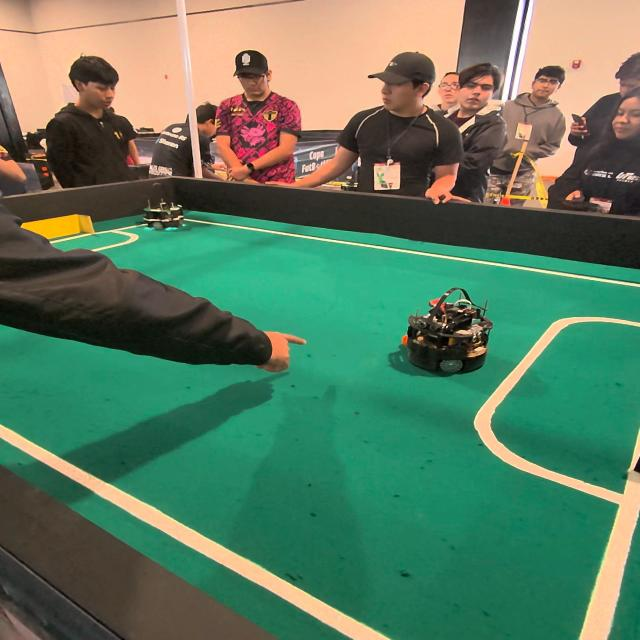Robot: (404, 284, 495, 380), (137, 175, 190, 237)
